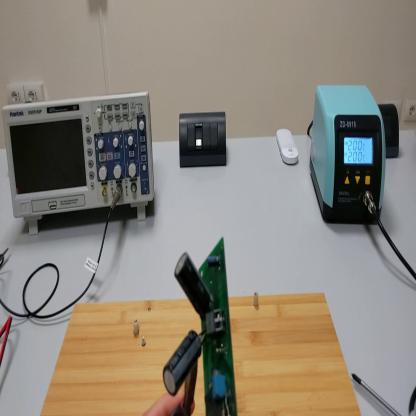hand: (148, 383, 194, 415)
high voltage board: (162, 233, 240, 415)
oscilloscope: (4, 92, 158, 236)
pliers: (173, 351, 203, 415)
screwdriver-: (354, 373, 402, 416)
socket: (378, 106, 400, 164)
welder station: (312, 86, 386, 230)
working area: (42, 291, 361, 416)
